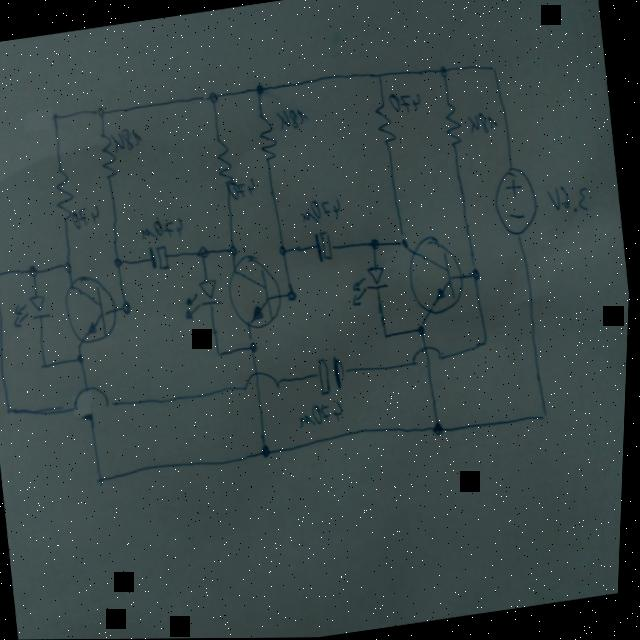capacitor: (318, 353, 349, 399), (315, 230, 338, 265), (148, 243, 173, 275)
crossover: (72, 382, 118, 417), (243, 367, 285, 396), (412, 343, 448, 369)
diode: (348, 264, 395, 309), (182, 277, 227, 322), (11, 293, 55, 330)
junction: (97, 471, 113, 489), (541, 406, 556, 425), (122, 299, 136, 317), (263, 444, 278, 460), (370, 237, 385, 253), (435, 421, 449, 438), (288, 289, 302, 305), (49, 109, 63, 125), (6, 403, 20, 419), (199, 242, 212, 259), (114, 256, 128, 271), (418, 323, 431, 339), (400, 237, 413, 252), (229, 244, 242, 259), (208, 90, 221, 105), (29, 264, 42, 279), (472, 267, 484, 283), (64, 259, 76, 275), (254, 82, 266, 97), (279, 243, 291, 258), (250, 340, 262, 355), (216, 346, 228, 361), (77, 352, 89, 367), (43, 359, 55, 374), (488, 64, 501, 77), (438, 66, 451, 79), (374, 71, 387, 84), (482, 338, 495, 351), (96, 105, 108, 119), (383, 329, 395, 342), (0, 270, 2, 283)
resistor: (51, 166, 81, 225), (256, 110, 283, 164), (213, 135, 239, 190), (98, 131, 123, 183), (442, 102, 467, 152), (373, 103, 400, 147)
source: (489, 164, 546, 241)
text: (546, 181, 595, 221), (296, 194, 346, 228), (298, 399, 350, 431), (139, 215, 189, 245), (112, 125, 148, 155), (388, 89, 424, 118), (70, 203, 106, 232), (276, 105, 313, 133), (466, 110, 501, 138), (229, 177, 261, 202)
transistor: (404, 231, 474, 322), (225, 250, 290, 334), (60, 269, 127, 349)
